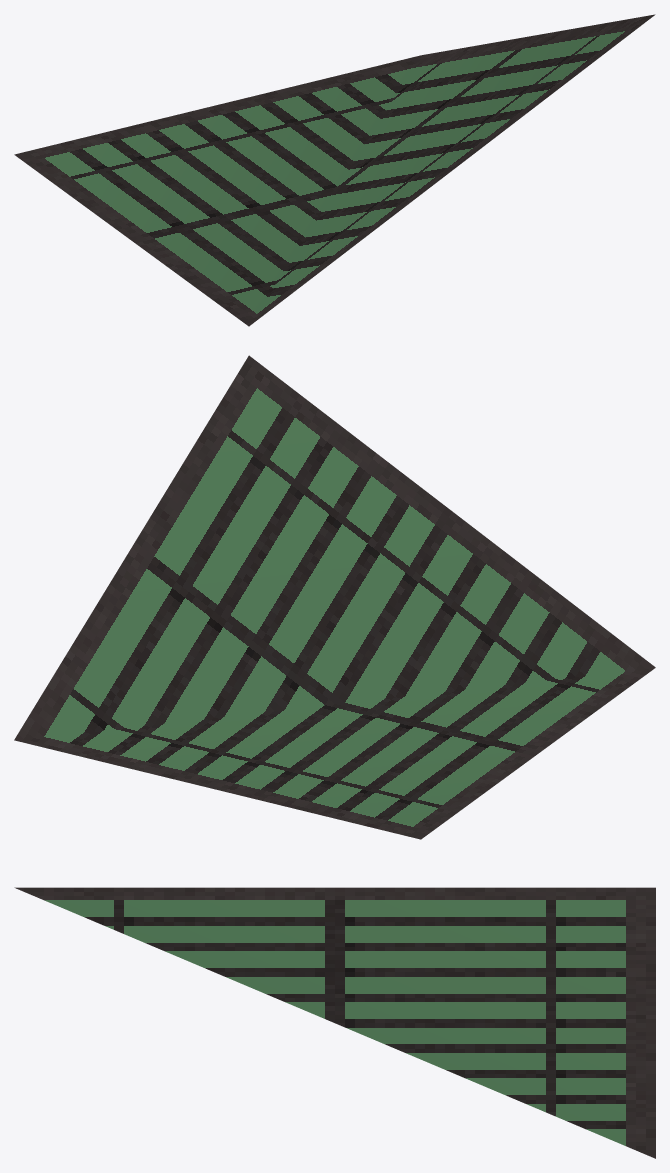
File: grass_corner.glb
The picture shows the model from 3 angles, top to bottom: view 1: azimuth 30°, elevation 25°; view 2: azimuth 150°, elevation 25°; view 3: azimuth 270°, elevation 25°; orthographic projection. The views are drawn at different scales.
Visible parts, largest first — view 1: grass-corner; view 2: grass-corner; view 3: grass-corner.
Part boxes in pixels (<box>): grass-corner: <box>14,14,655,326</box>; grass-corner: <box>14,355,655,839</box>; grass-corner: <box>14,887,655,1158</box>.
Size of the model in its own units: 1 by 0.5 by 1.
1 material, 1 textured.
